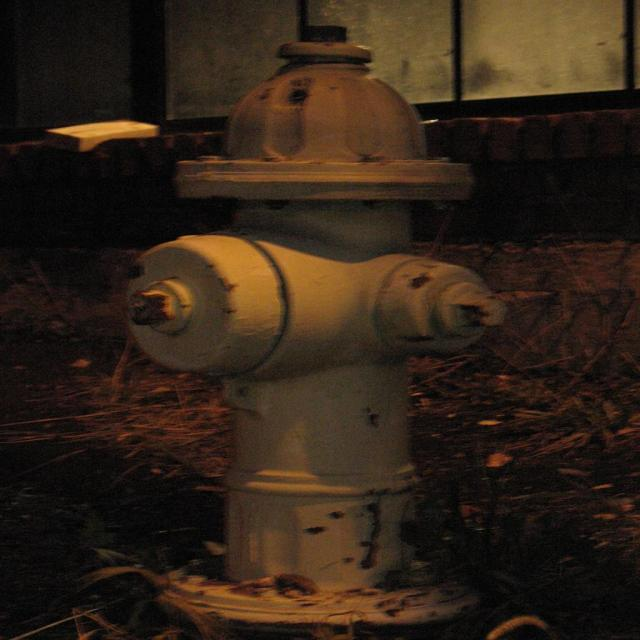fire_hydrant: (126, 26, 508, 624)
